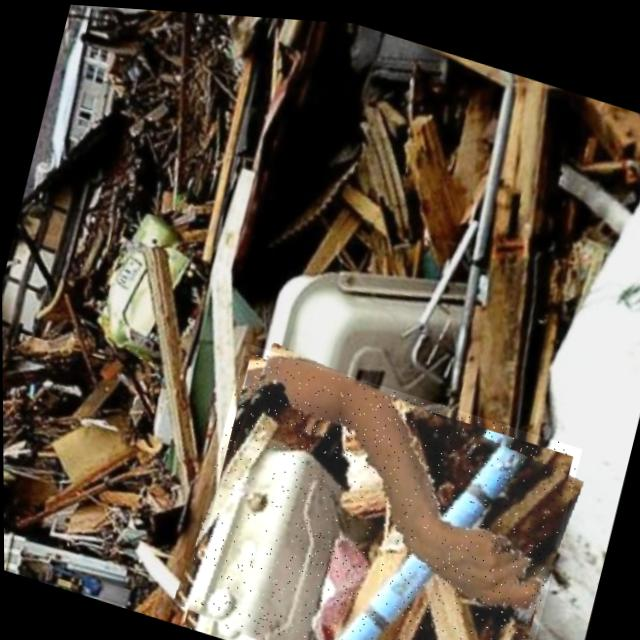Person in Rubble: (173, 334, 583, 640)
